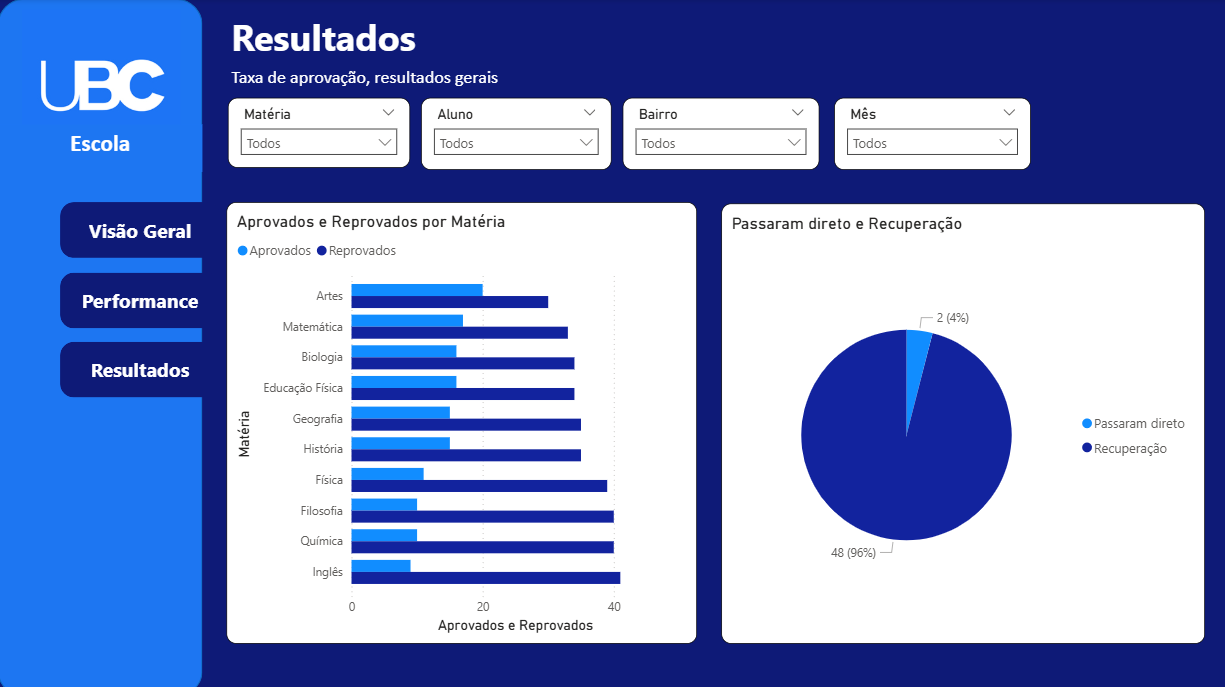

The dashboard page shown, as its layout file describes it:
{"tool":"powerbi","page":{"name":"Resultados","canvas":[1280,720],"ordinal":2},"visuals":[{"type":"textbox","box":[235.8,8.9,271.4,60.8],"z":0},{"type":"textbox","box":[235.8,63.8,404.9,40],"z":1000},{"type":"shape","box":[0,0,210.6,719.3],"z":2000},{"type":"slicer","fields":{"Values":["escolaUbc Alunos.bairro"]},"box":[643.9,101.9,203,74.3],"z":3000},{"type":"slicer","fields":{"Values":["escolaUbc Materias.nome_materia"]},"box":[236.3,101.9,188.1,72.6],"z":4000},{"type":"slicer","fields":{"Values":["escolaUbc Alunos.nome_aluno"]},"box":[436,101.9,196.4,74.3],"z":5000},{"type":"slicer","fields":{"Values":["escolaUbc Notas.datacriacao.Variation.Hierarquia de datas.Mês"]},"box":[861.8,101.9,203,74.3],"z":6000},{"type":"shape","title":"Visão Geral","box":[64.4,209.6,165,57.8],"z":7000},{"type":"shape","box":[64.4,282.2,165,57.8],"z":8000},{"type":"image","box":[24.8,8.3,163.4,168.3],"z":9000},{"type":"textbox","box":[0,129,210.6,48.9],"z":10000},{"type":"shape","box":[64,353,165,57.8],"z":11000},{"type":"pieChart","fields":{"Y":["escolaUbc Notas.qtd_aprovados","escolaUbc Notas.qtd_reprovados"]},"box":[746,211.2,498.4,453.9],"z":12000},{"type":"clusteredBarChart","fields":{"Category":["escolaUbc Materias.nome_materia"],"Y":["escolaUbc Notas.qtd_aprovados","escolaUbc Notas.qtd_reprovados"]},"box":[236,209.6,485.2,455.5],"z":13000}]}

Visuals, with their boxes in screenshot pixels (x1, y1, x2, y2), scaled from the page's 1280x720 canvas onto the 1225x687 screenshot:
textbox: x1=226 y1=8 x2=485 y2=67
textbox: x1=226 y1=61 x2=613 y2=99
shape: x1=0 y1=0 x2=202 y2=686
slicer - escolaUbc Alunos.bairro: x1=616 y1=97 x2=811 y2=168
slicer - escolaUbc Materias.nome_materia: x1=226 y1=97 x2=406 y2=167
slicer - escolaUbc Alunos.nome_aluno: x1=417 y1=97 x2=605 y2=168
slicer - escolaUbc Notas.datacriacao.Variation.Hierarquia de datas.Mês: x1=825 y1=97 x2=1019 y2=168
"Visão Geral" shape: x1=62 y1=200 x2=220 y2=255
shape: x1=62 y1=269 x2=220 y2=324
image: x1=24 y1=8 x2=180 y2=169
textbox: x1=0 y1=123 x2=202 y2=170
shape: x1=61 y1=337 x2=219 y2=392
pieChart - escolaUbc Notas.qtd_aprovados x escolaUbc Notas.qtd_reprovados: x1=714 y1=202 x2=1191 y2=635
clusteredBarChart - escolaUbc Materias.nome_materia x escolaUbc Notas.qtd_aprovados: x1=226 y1=200 x2=690 y2=635
